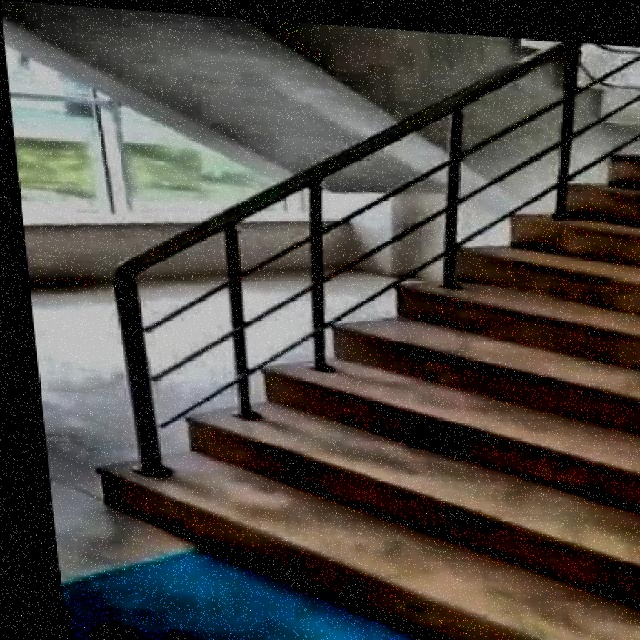stair: (23, 28, 639, 638)
